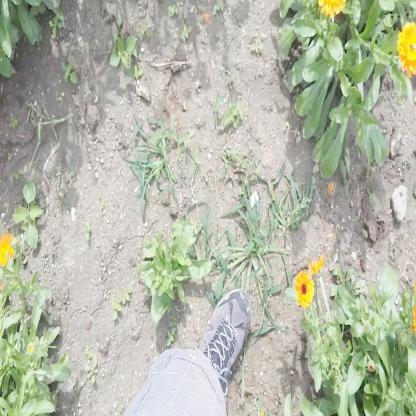marigold: (396, 21, 416, 74), (294, 272, 314, 309), (0, 233, 16, 267)
